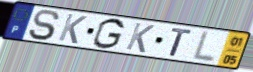G: (91, 17, 127, 50)
K: (56, 13, 89, 46), (124, 22, 156, 55)
L: (190, 29, 217, 64)
S: (27, 9, 62, 42)
T: (168, 27, 194, 58)
